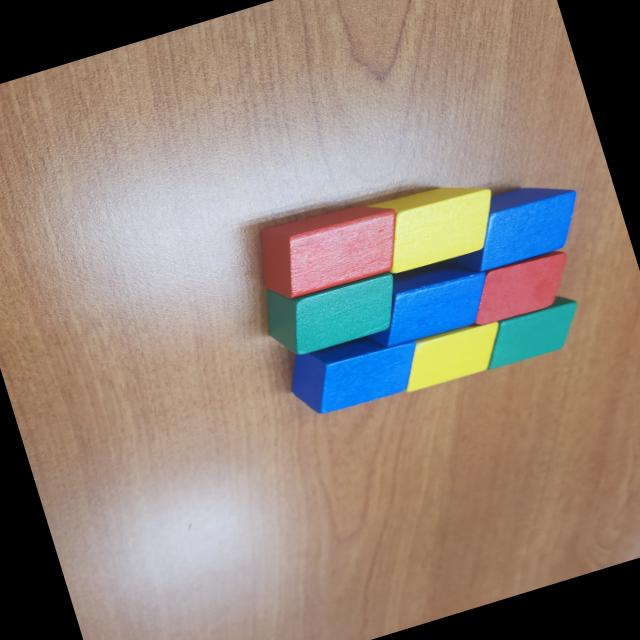blue: (433, 172, 591, 280), (282, 318, 428, 422), (352, 254, 499, 355)
green: (255, 252, 408, 363), (471, 290, 589, 370)
red: (246, 190, 412, 307), (456, 246, 582, 332)
yellow: (364, 170, 506, 278), (388, 314, 510, 396)
